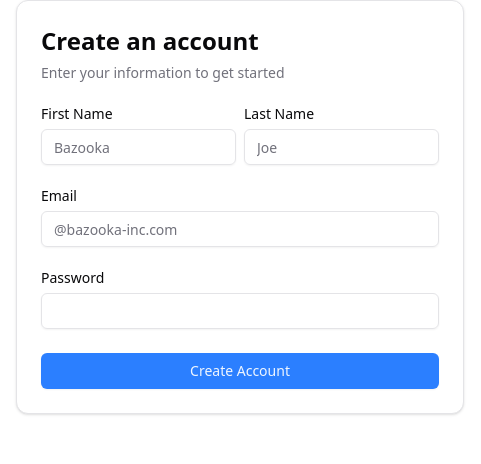
Test: SignupForm - Vulnerability Tests › Form Submission › should display error message on failed signup
Type "John" into the field labelled "First Name" at (138, 147), box [41,129,236,165]
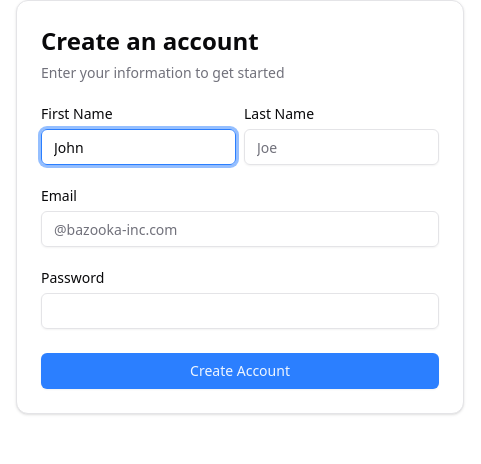
Type "Doe" into the field labelled "Last Name" at (342, 147), box [244,129,439,165]
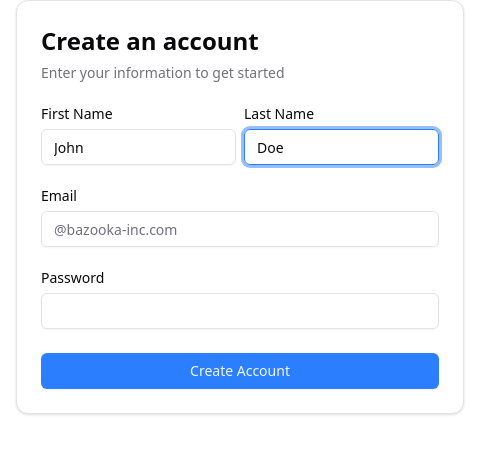
Type "existing@bazooka-inc.com" into the field labelled "Email" at (240, 229), box [41,211,439,247]
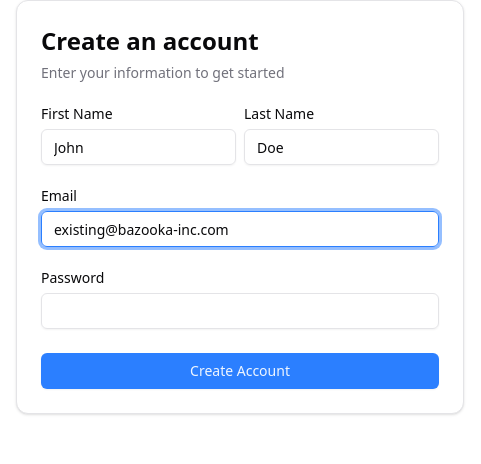
Type "password123" into the password field labelled "Password" at (240, 311), box [41,293,439,329]
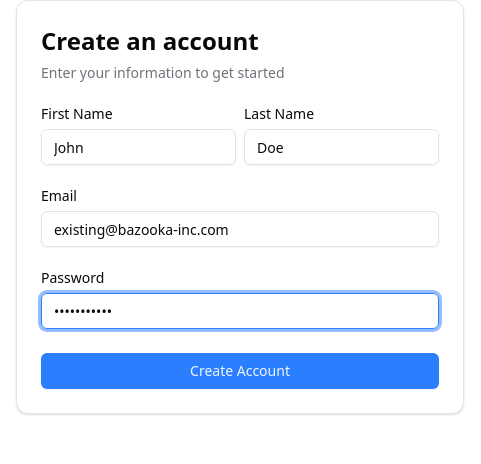
Click the button "Create Account" at (240, 371), box [41,353,439,389]
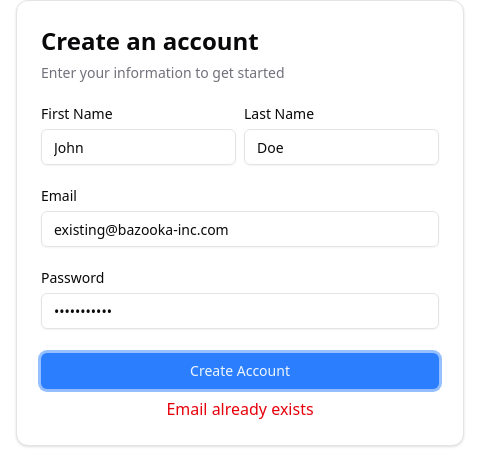
Expected: the text "Email already exists" is shown, [166,398,314,420]
